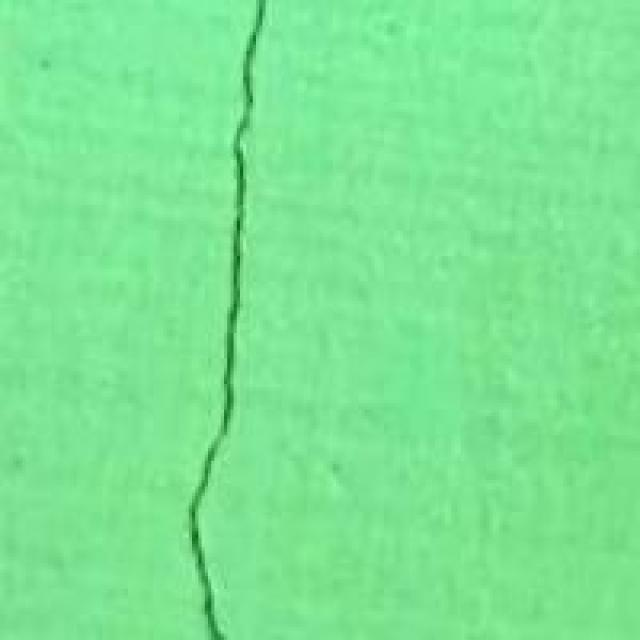crack: (160, 0, 339, 637)
